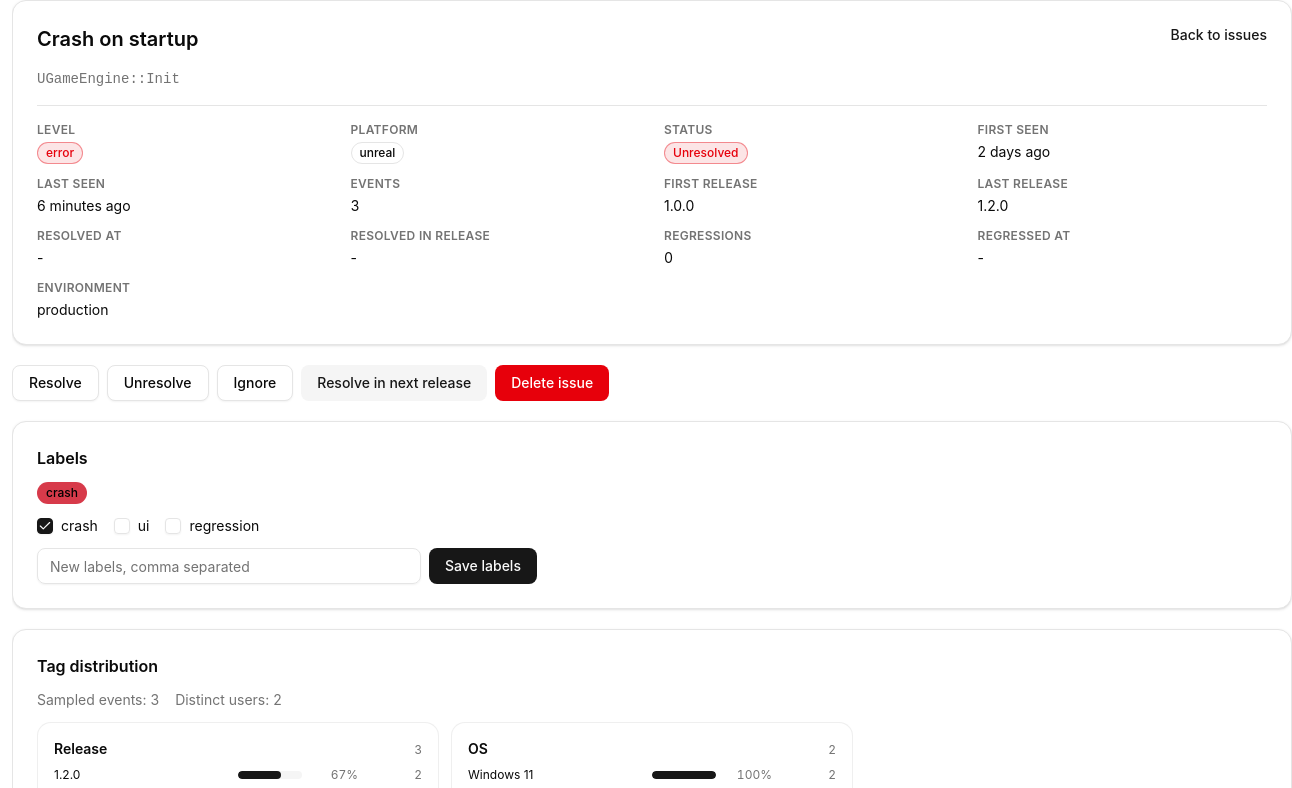
Test: IssueDetailPage › resolves in the next release and shows the pinned release with the reopen note
Click the button "Resolve in next release": (394,383) [301,365,487,401]
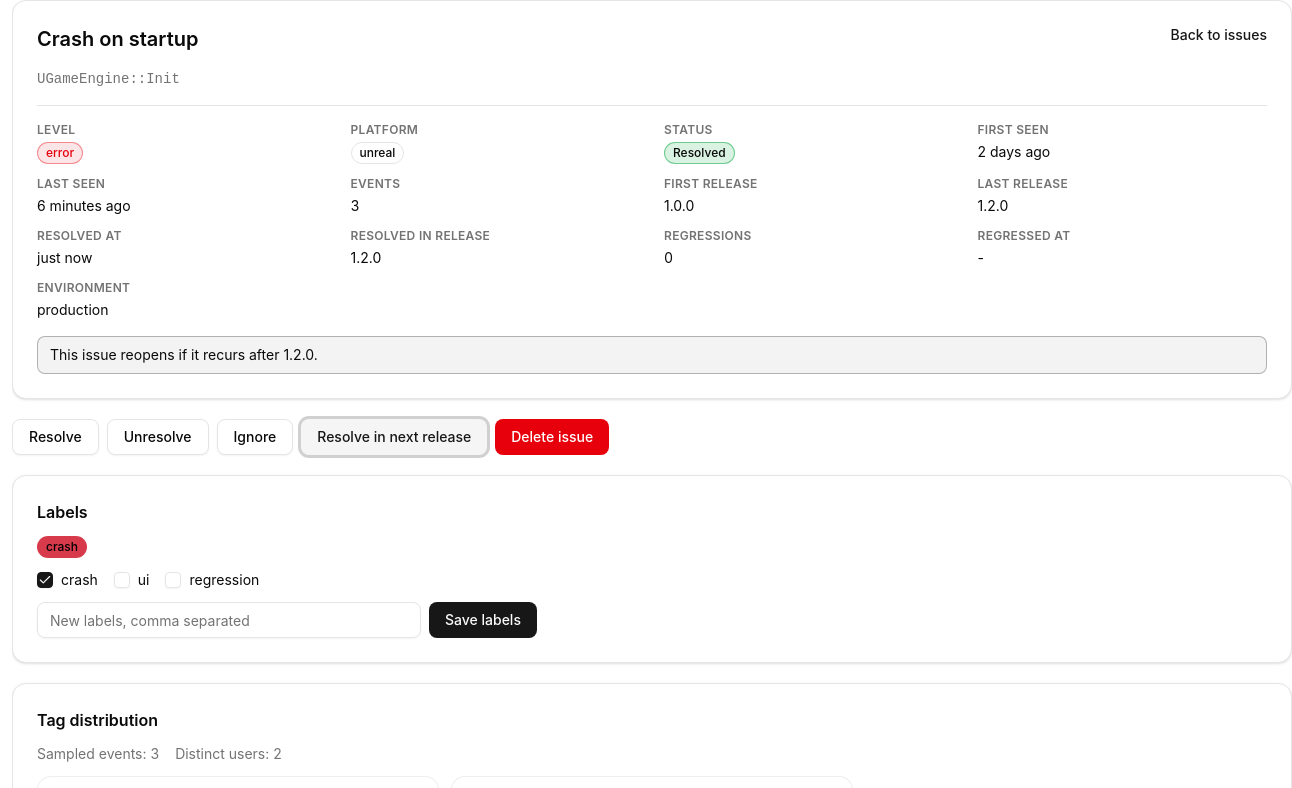
Expected: the text "Resolved" is shown, [664,142,735,164]
Result: the text with test id "issue-reopen-note" reads "This issue reopens if it recurs after 1.2.0." at [50,346,318,363]
